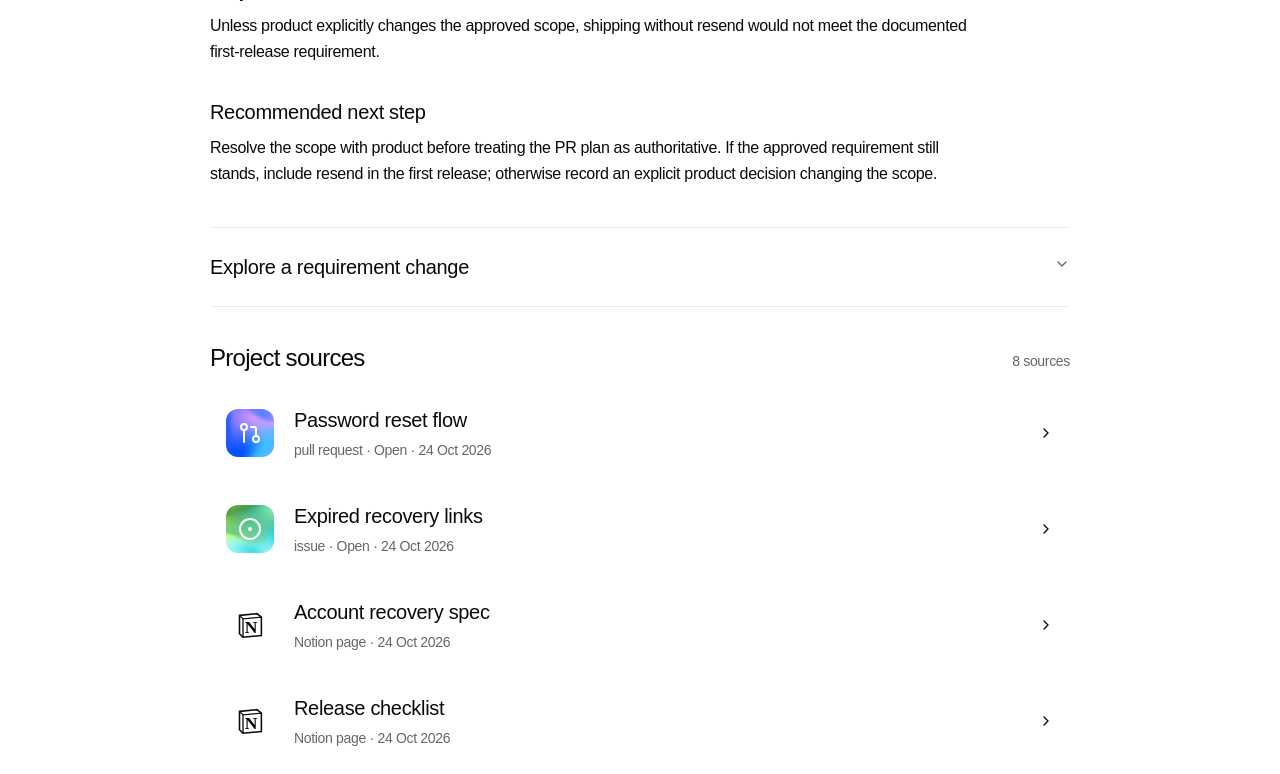
keeps evidence in the inspector while switching sources and leaves descriptions out of the list
(page scrolled)
Click the button "Password reset flow pull request · Open · 24 Oct 2026" at (250, 433), box [210,389,1070,477]
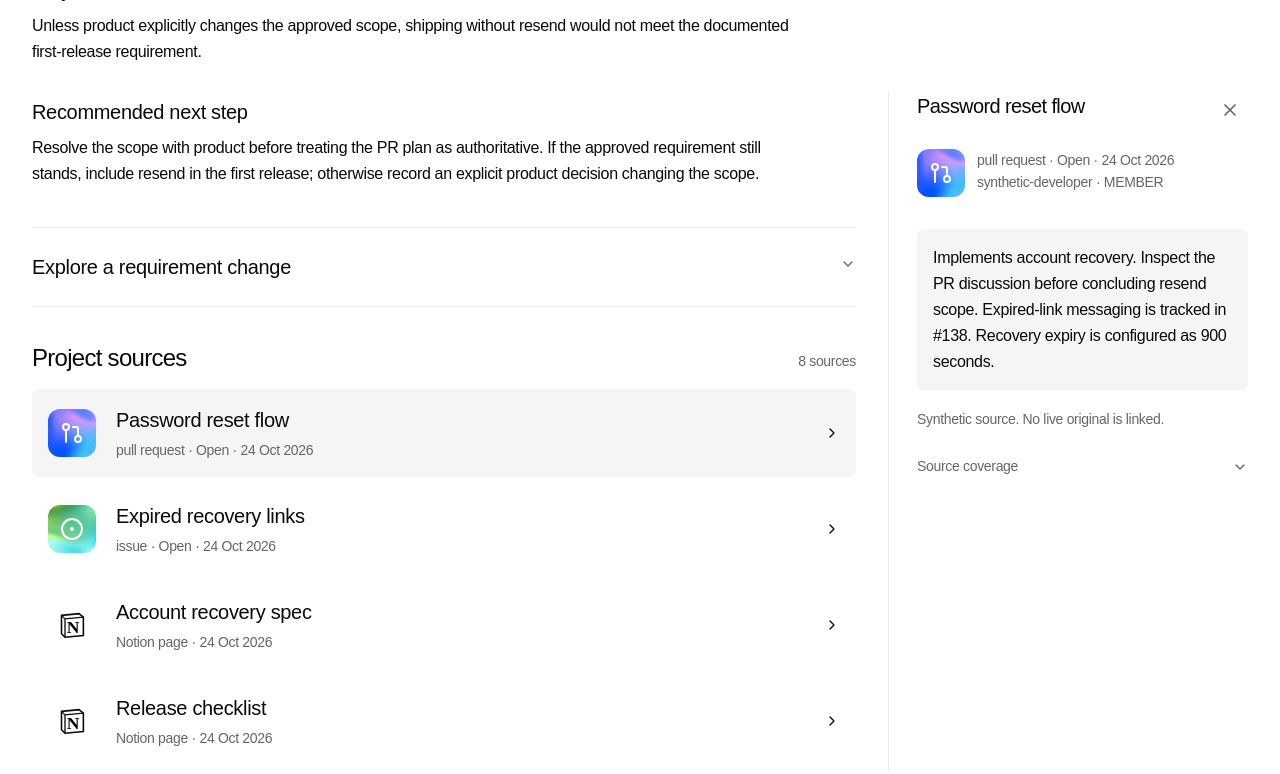
Result: the text "Implements account recovery. Inspect the PR discussion before concluding resend scope. Expired-link messaging is tracked" is shown at [933,249,1230,370]
Click the button "Expired recovery links issue · Open · 24 Oct 2026" at (72, 529), box [32,485,856,573]
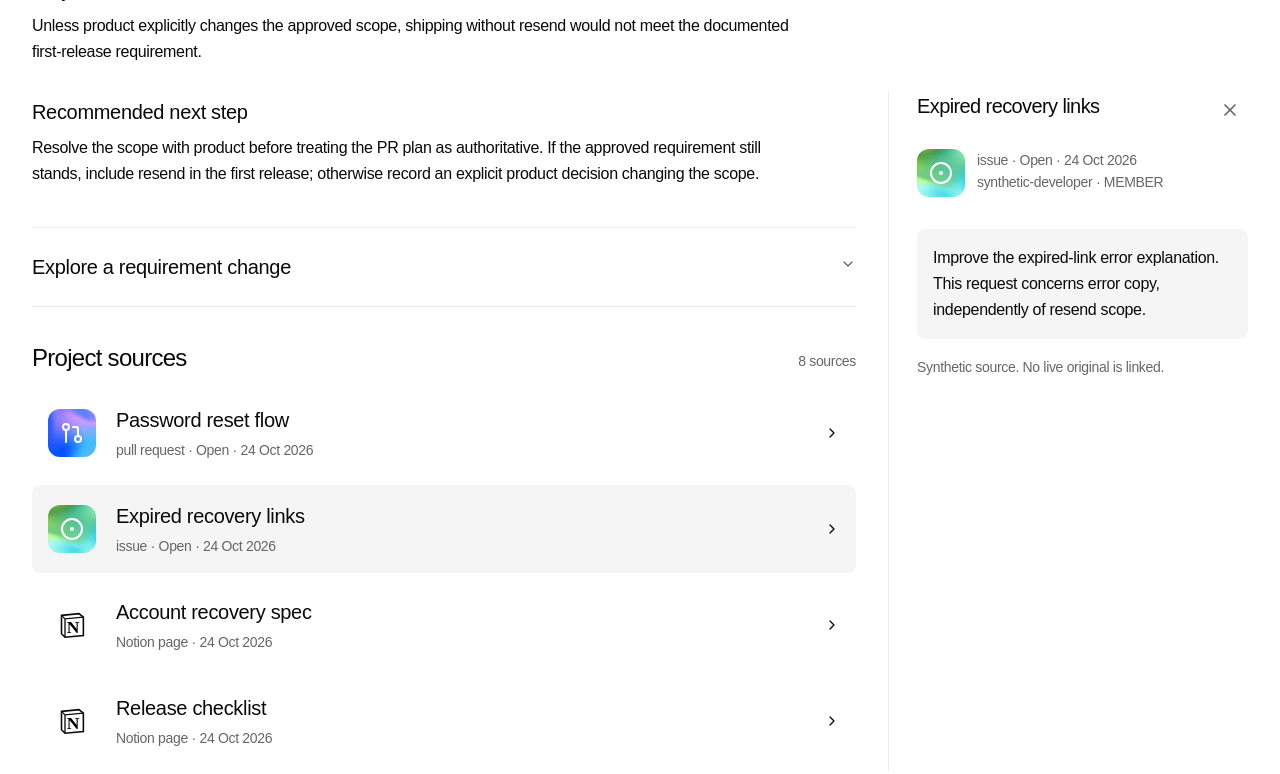
Result: the text "Implements account recovery. Inspect the PR discussion before concluding resend scope. Expired-link messaging is tracked" is gone
